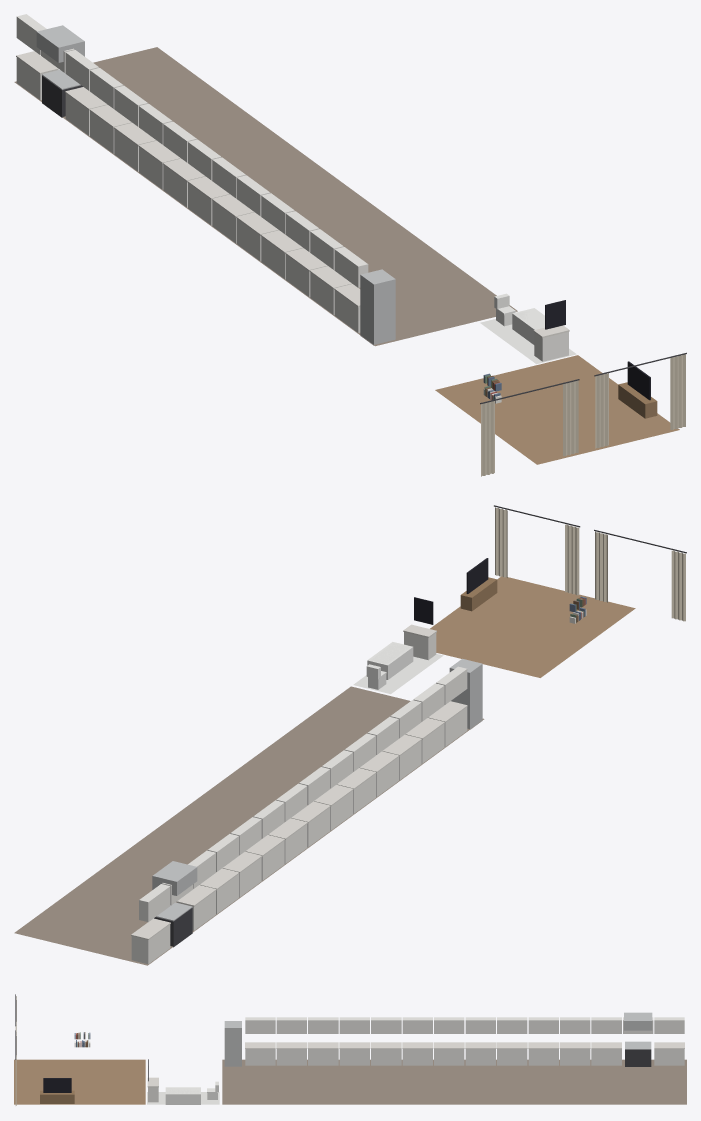
Rendered from fine-s2.glb.
The picture shows the model from 3 angles, top to bottom: view 1: azimuth 30°, elevation 25°; view 2: azimuth 150°, elevation 25°; view 3: azimuth 270°, elevation 25°; orthographic projection. The views are drawn at different scales.
Visible parts, largest first — view 1: soft-s2, fridge.001, range.001, vanity.001, tv-console.002, counter-run.013, counter-run.021, counter-run.023, counter-run.018, counter-run.019, counter-run.020, counter-run.022 (+20 smaller); view 2: soft-s2, range.001, counter-run.013, vanity.001, fridge.001, tv-console.002, bathtub.001, counter-run.014, counter-run.018, counter-run.019, counter-run.020, counter-run.025 (+19 smaller); view 3: soft-s2, range.001, tv-console.002, fridge.001, counter-run.015, counter-run.017, counter-run.018, counter-run.020, counter-run.022, counter-run.024, counter-run.013, counter-run.014 (+20 smaller).
Boxes of the visible parts, x1,y1,x2,y2 form: soft-s2: (14, 47, 686, 476); fridge.001: (360, 269, 395, 345); range.001: (36, 25, 84, 117); vanity.001: (533, 300, 569, 361); tv-console.002: (618, 361, 657, 418); counter-run.013: (16, 51, 58, 100); counter-run.021: (236, 212, 278, 261); counter-run.023: (285, 248, 327, 297); counter-run.018: (163, 158, 205, 207); counter-run.019: (187, 176, 229, 225); counter-run.020: (212, 194, 254, 243); counter-run.022: (260, 230, 302, 279); soft-s2: (14, 505, 686, 965); range.001: (152, 861, 197, 947); counter-run.013: (131, 918, 170, 964); vanity.001: (403, 597, 436, 660); fridge.001: (449, 658, 482, 729); tv-console.002: (460, 558, 497, 611); bathtub.001: (367, 642, 413, 679); counter-run.014: (176, 885, 216, 930); counter-run.018: (268, 818, 307, 863); counter-run.019: (291, 801, 330, 847); counter-run.020: (314, 784, 353, 830); counter-run.025: (428, 701, 467, 746); soft-s2: (14, 994, 686, 1105); range.001: (624, 1012, 652, 1066); tv-console.002: (40, 1078, 74, 1103); fridge.001: (224, 1021, 241, 1066); counter-run.015: (559, 1042, 590, 1065); counter-run.017: (496, 1042, 527, 1065); counter-run.018: (465, 1042, 496, 1065); counter-run.020: (402, 1042, 433, 1065); counter-run.022: (339, 1042, 370, 1065); counter-run.024: (276, 1042, 307, 1065); counter-run.013: (654, 1042, 684, 1065); counter-run.014: (591, 1042, 621, 1065).
Size of the model in its own units: 7.06 by 2.45 by 31.
